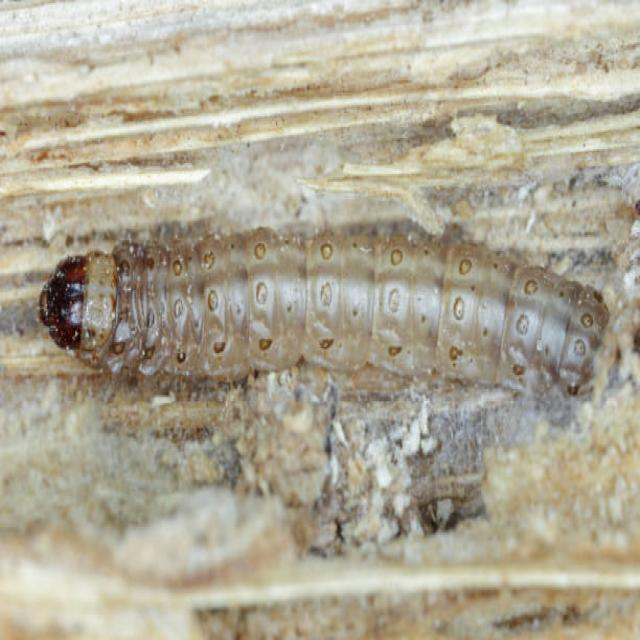cornborer-Larva-: (32, 185, 624, 435)
